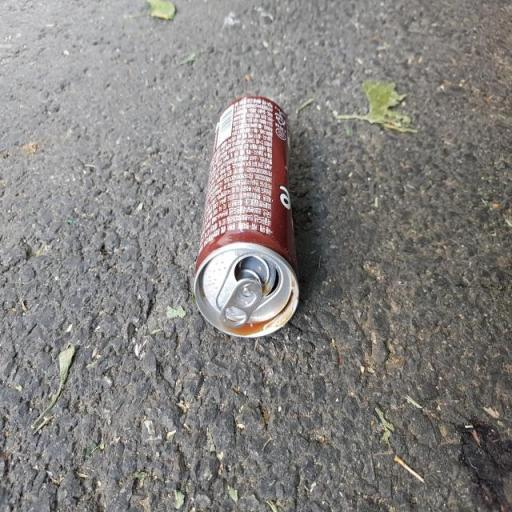metal: (171, 78, 329, 376)
